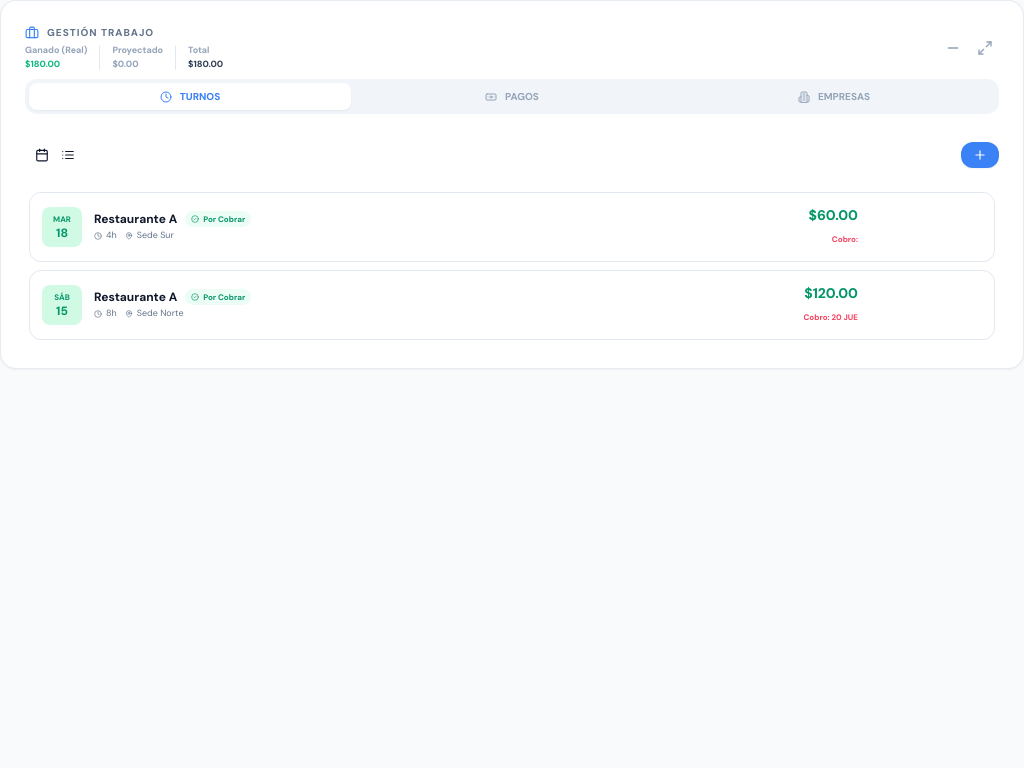
Test: WorkSection - Integration Tests › renderiza los días de la semana en vista calendario
Note: Cambiar a vista calendario (está en tab "logs" por defecto)
Click the button named "vista calendario".
click(42, 155)  # box 29,142 -> 55,168
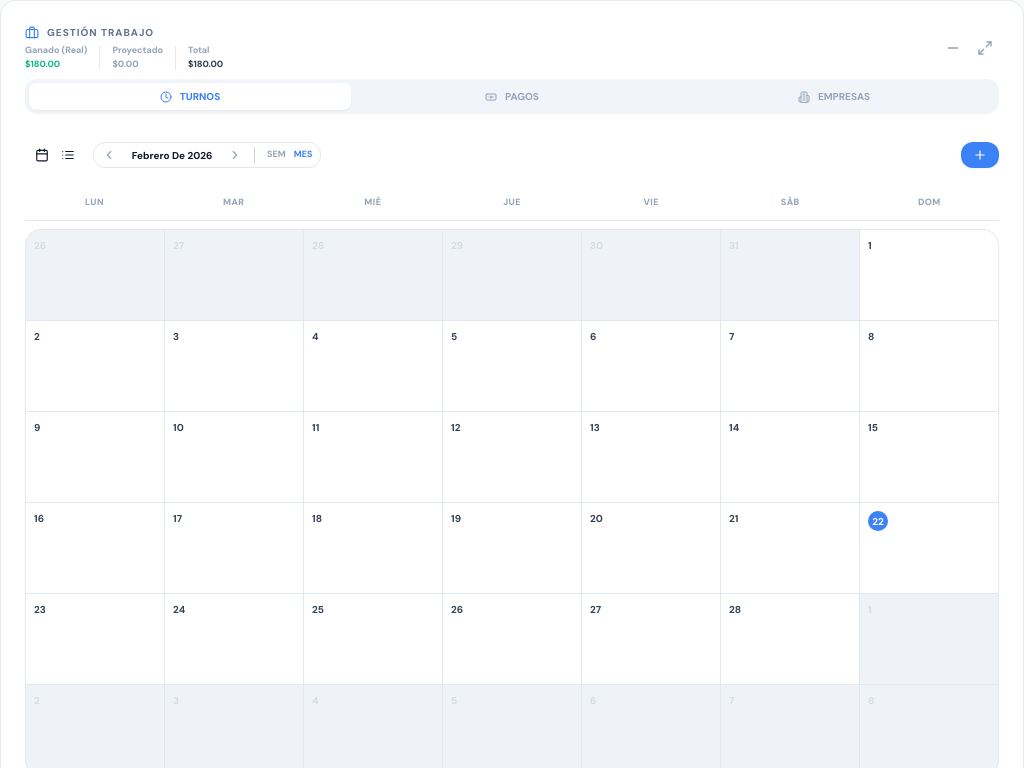
Result: the text "Lun" is shown at 85,196 -> 104,208
Result: the text "Mié" is shown at 364,196 -> 381,208
Result: the text "Vie" is shown at 643,196 -> 659,208
